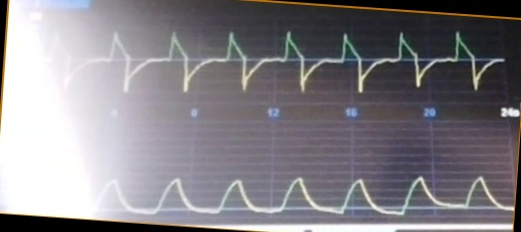Normal Flow: (43, 22, 506, 99)
Normal Volume: (83, 157, 512, 218)
